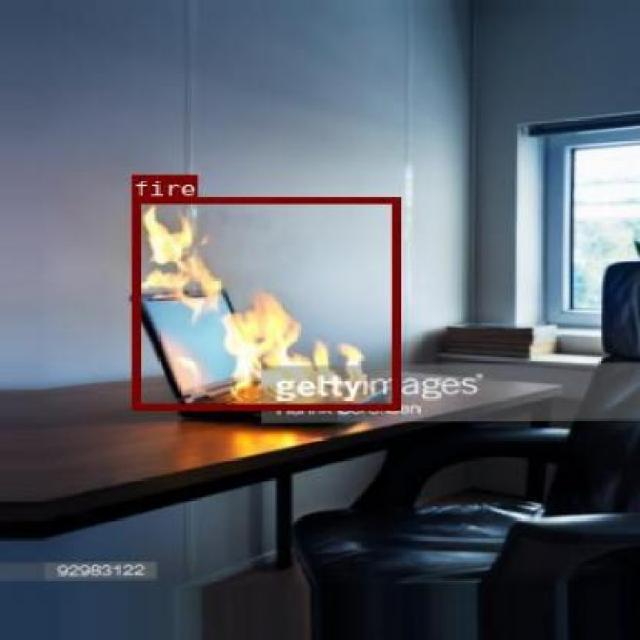Fire: (132, 196, 398, 409)
